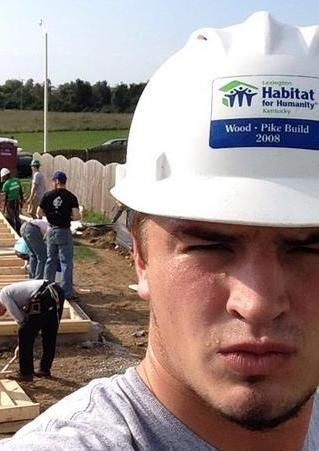helmet: (107, 12, 318, 227)
